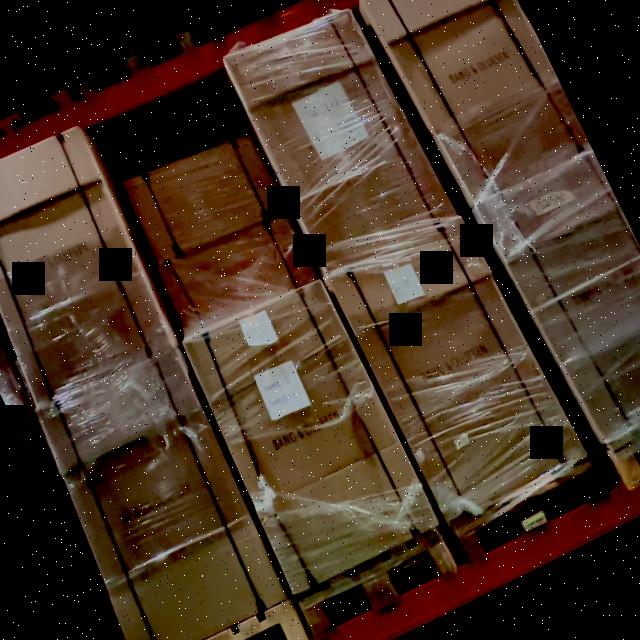box: (180, 280, 441, 593), (328, 211, 582, 518), (36, 342, 288, 640), (226, 2, 452, 274), (0, 121, 172, 404)
